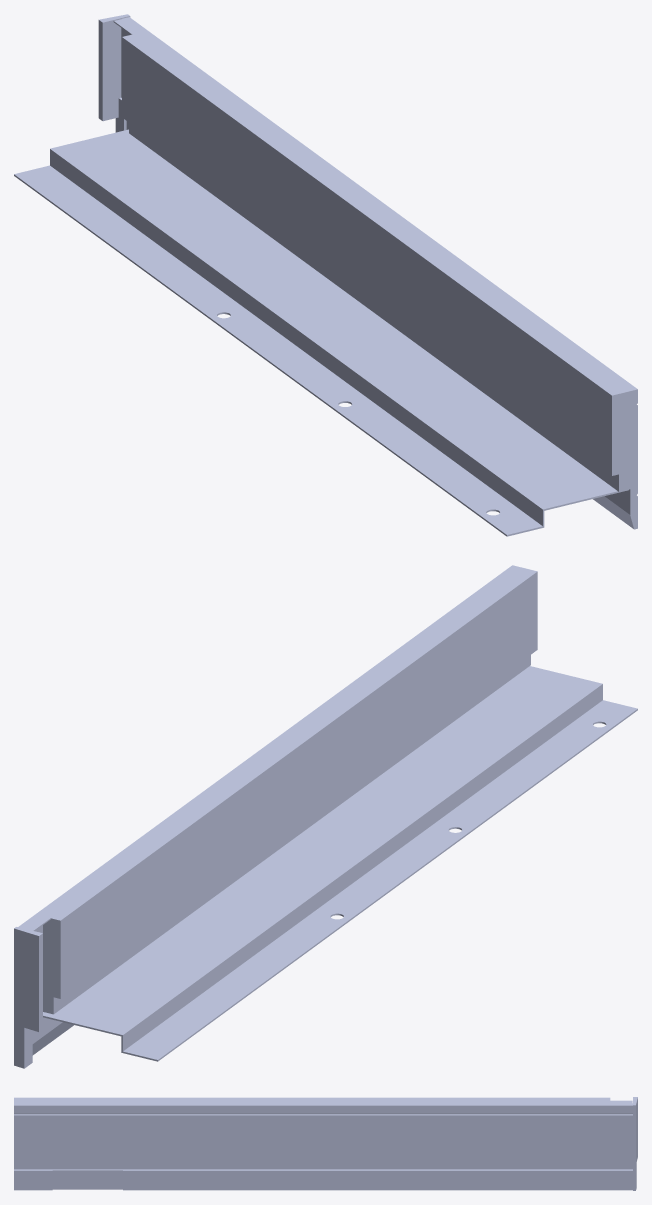
Rendered from lg-kava-N450-m.glb.
The picture shows the model from 3 angles, top to bottom: view 1: azimuth 30°, elevation 25°; view 2: azimuth 150°, elevation 25°; view 3: azimuth 270°, elevation 25°; orthographic projection. The views are drawn at different scales.
Parts seen in each view (by area): view 1: 42438832; view 2: 42438832; view 3: 42438832.
Part boxes in pixels (box(x1,y1,x2,y2)): 42438832: box(14, 14, 637, 536); 42438832: box(14, 565, 637, 1068); 42438832: box(14, 1097, 637, 1190).
Bounding box in the file's own units: 0.0653 × 0.0672 × 0.4435.
